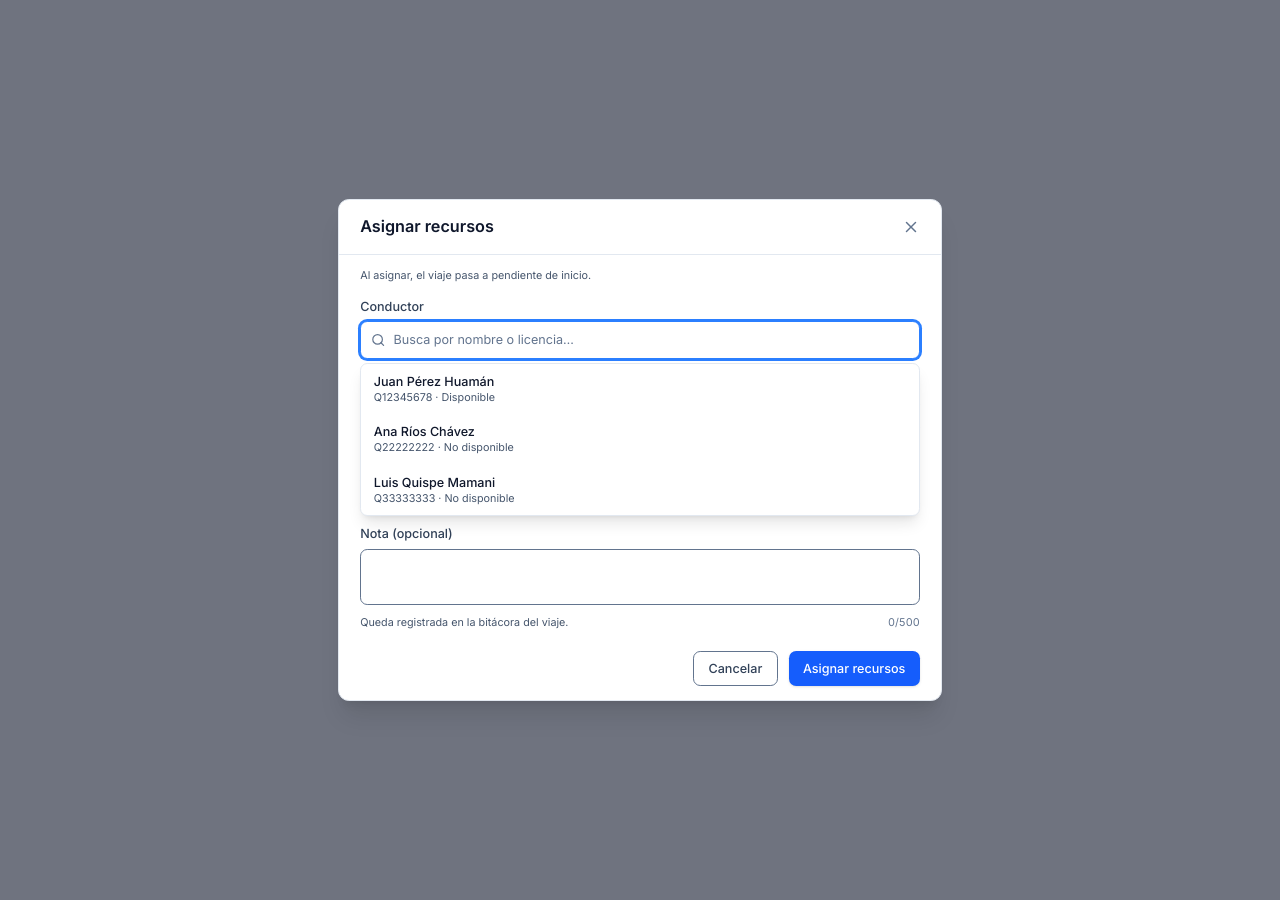
AssignResourcesModal · validación › sin conductor ni tracto no manda nada y explica los dos
What coordinates should you click on to do the following:
click the button "Asignar recursos"
I would click on:
 (854, 669)
Its box is [788,652,920,686].
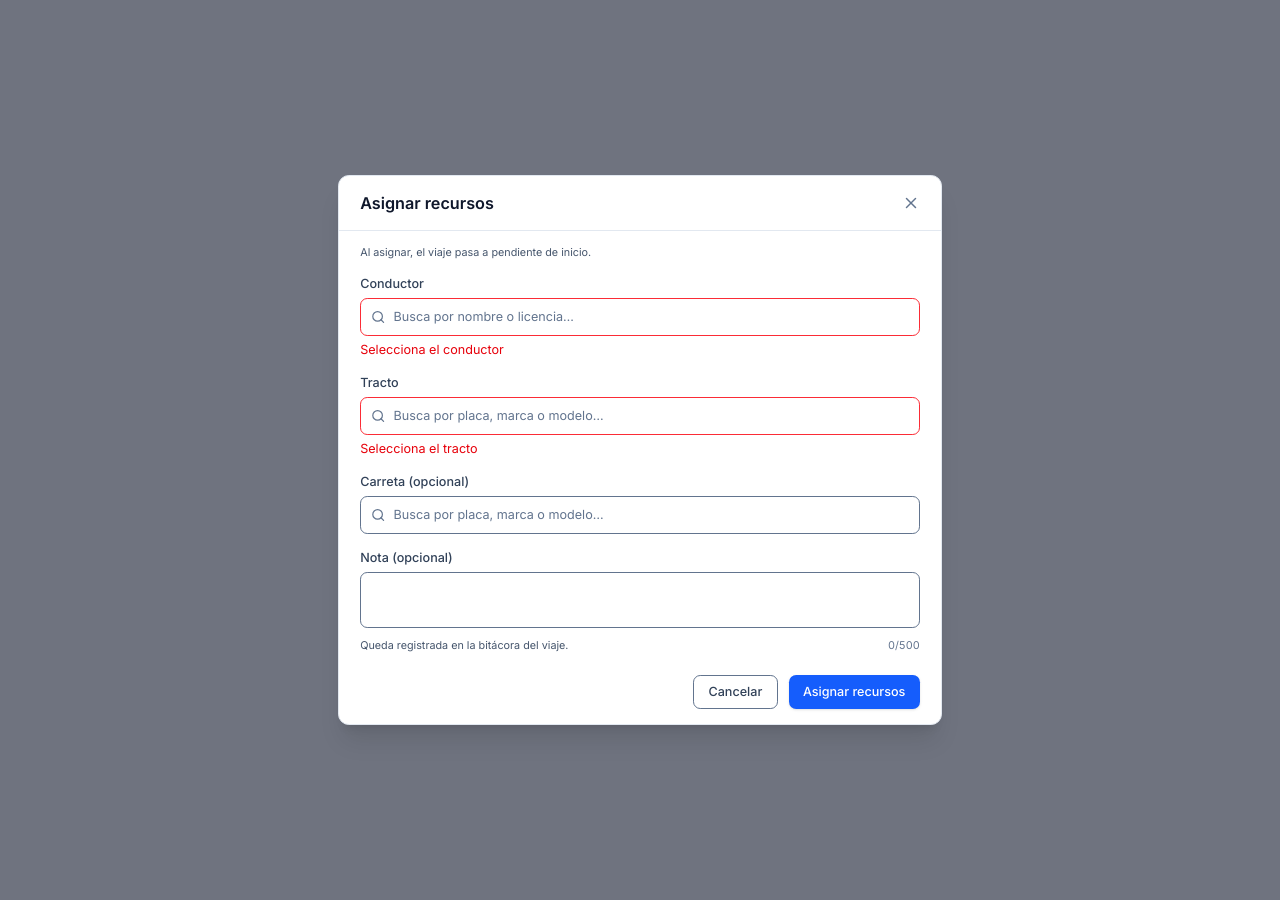
Now the text "Selecciona el conductor" is shown, box [360,342,504,357]
Now the text "Selecciona el tracto" is shown, box [360,441,478,456]
